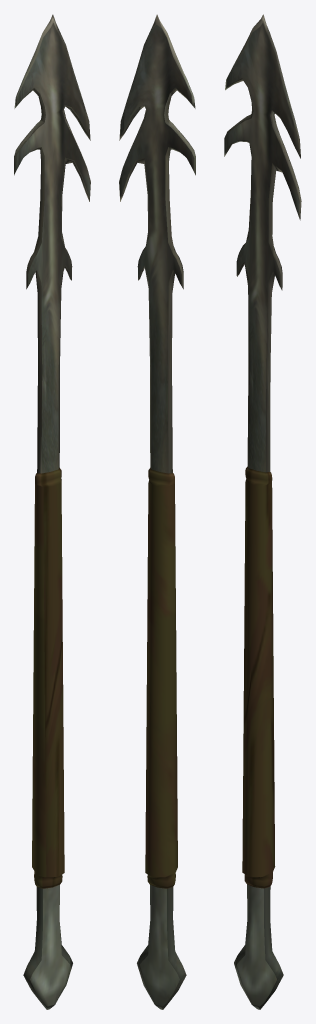
The model's file is M_ArponB.fbx.
3 renders of one model, left to right at view 1: azimuth 30°, elevation 25°; view 2: azimuth 150°, elevation 25°; view 3: azimuth 330°, elevation 25°, orthographic.
Parts seen in each view (by area): view 1: arpon2; view 2: arpon2; view 3: arpon2.
Boxes of the visible parts, left/top/right/bottom form: arpon2: left=14, top=14, right=90, bottom=1009; arpon2: left=119, top=14, right=195, bottom=1009; arpon2: left=224, top=14, right=301, bottom=1009.
Size of the model in its own units: 12.41 by 153 by 5.33.
